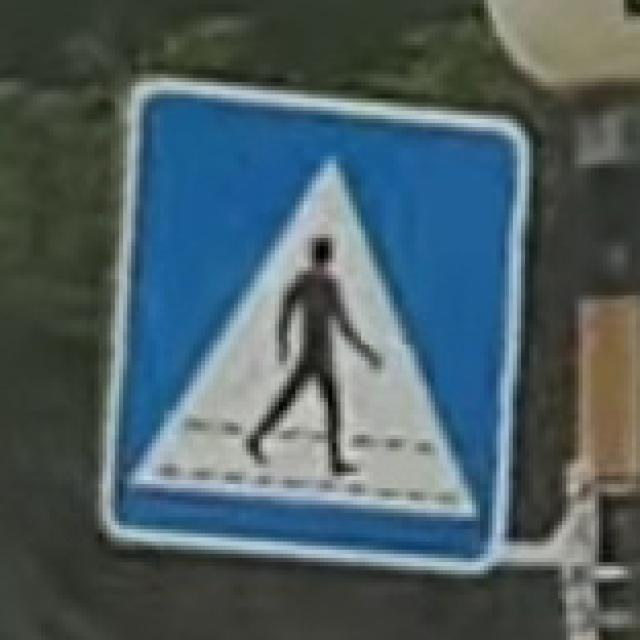zebracrossing_sign: (90, 66, 534, 574)
